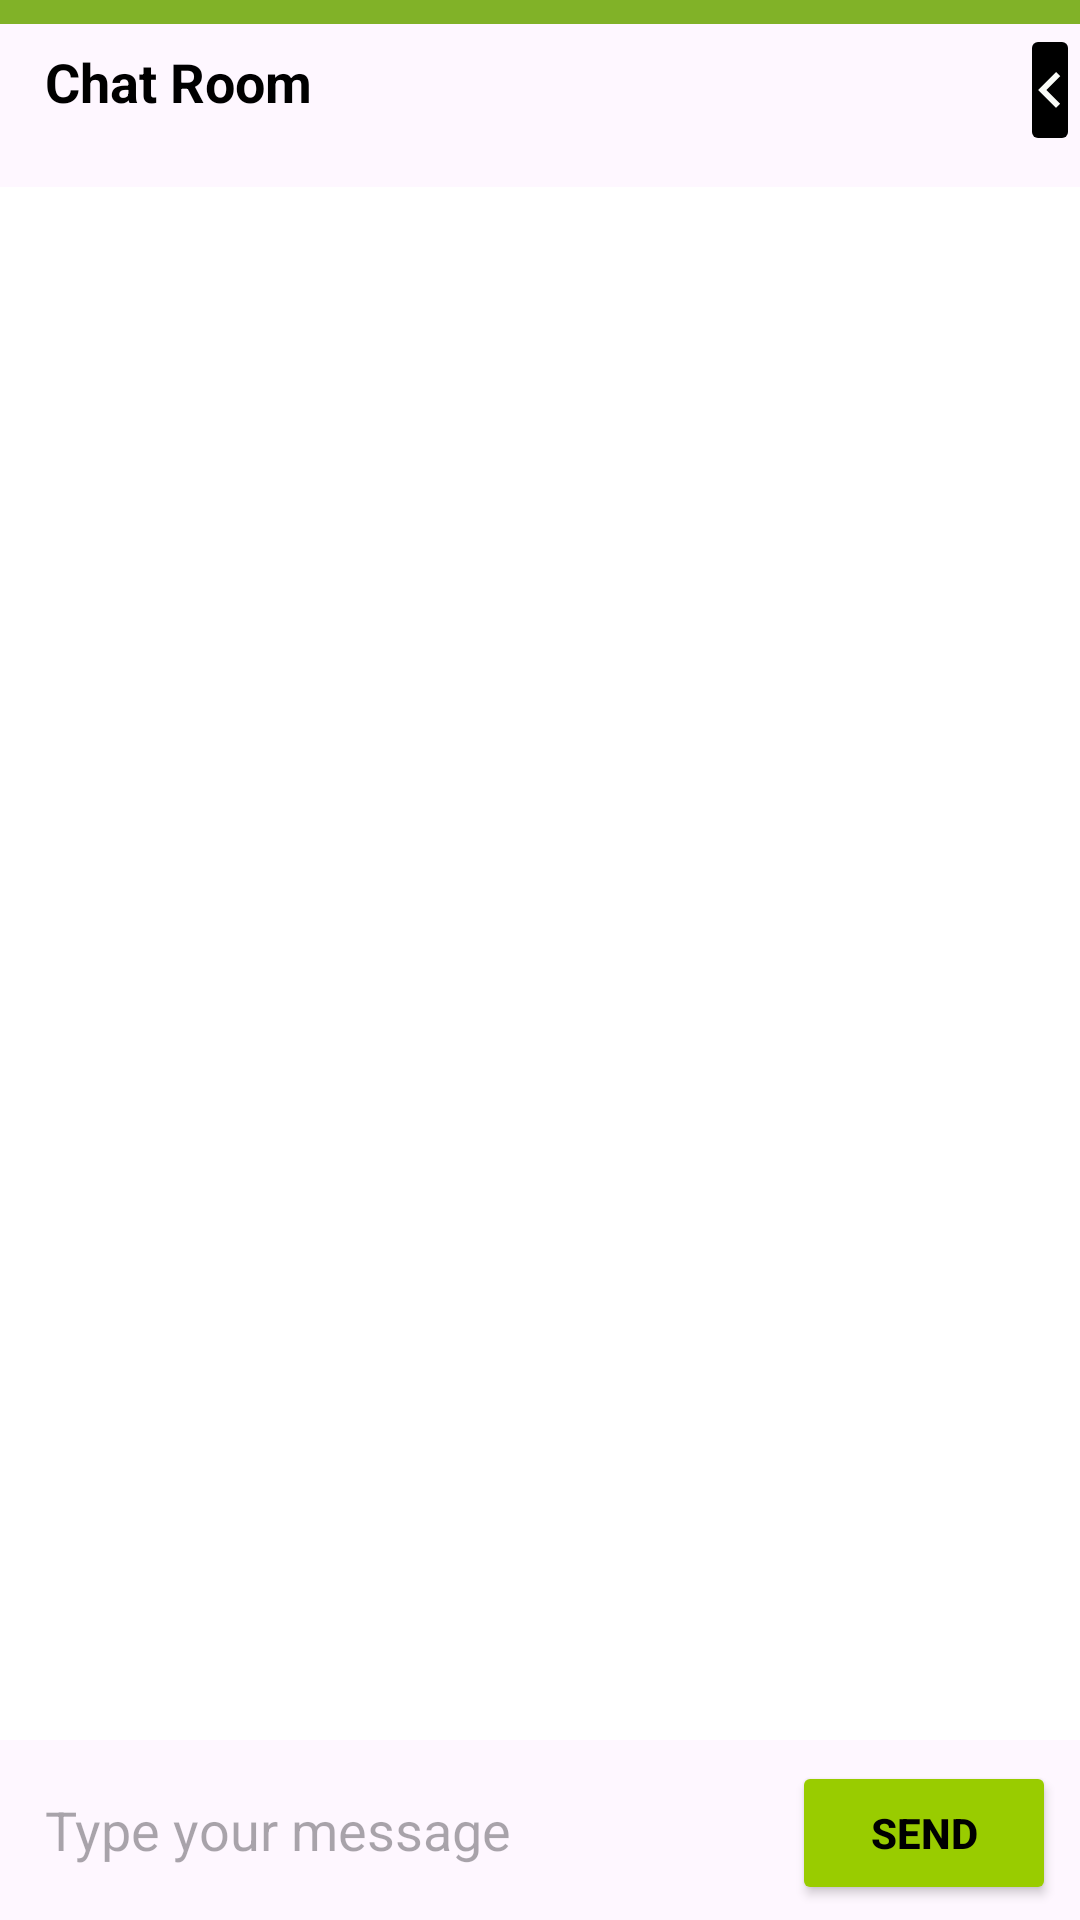

Locate icon controls on the screen. Image size 1080px x 1920px, boxes as (x1, y1, x2, y2).
back: (1032, 42, 1068, 138)
